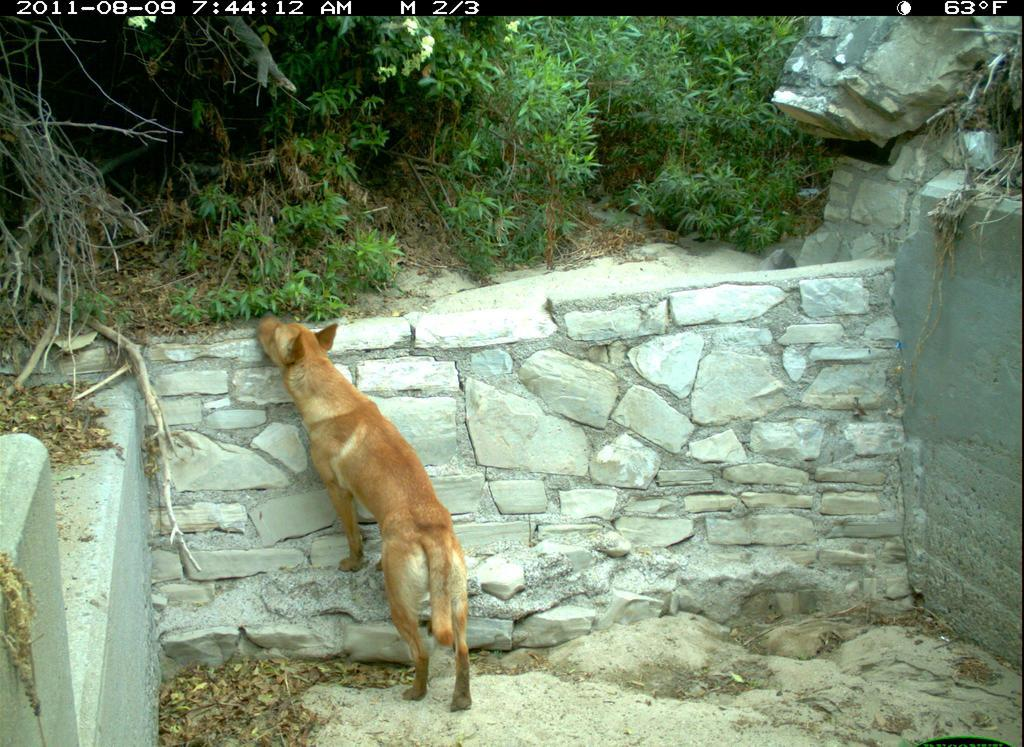dog: (255, 312, 483, 715)
